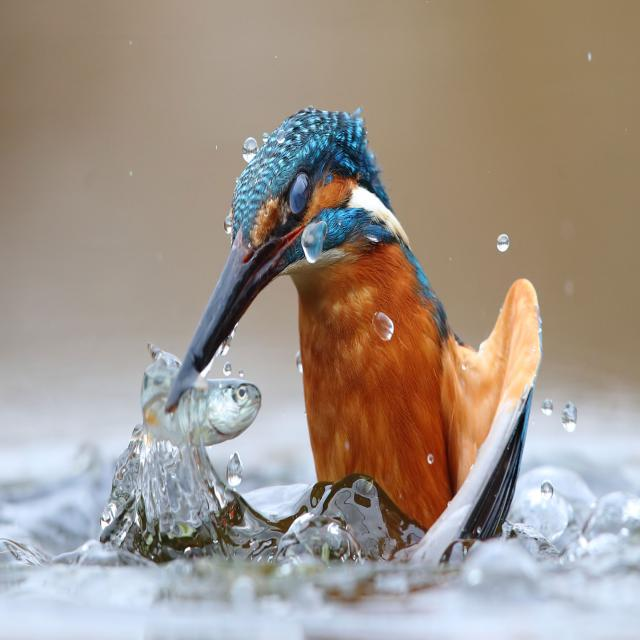kingfisher: (159, 61, 552, 584)
